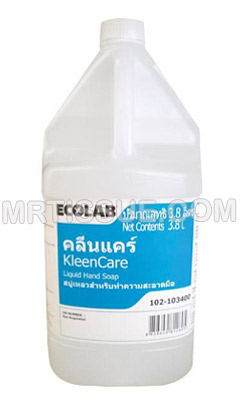Cleaning_solution: (36, 16, 206, 392)
